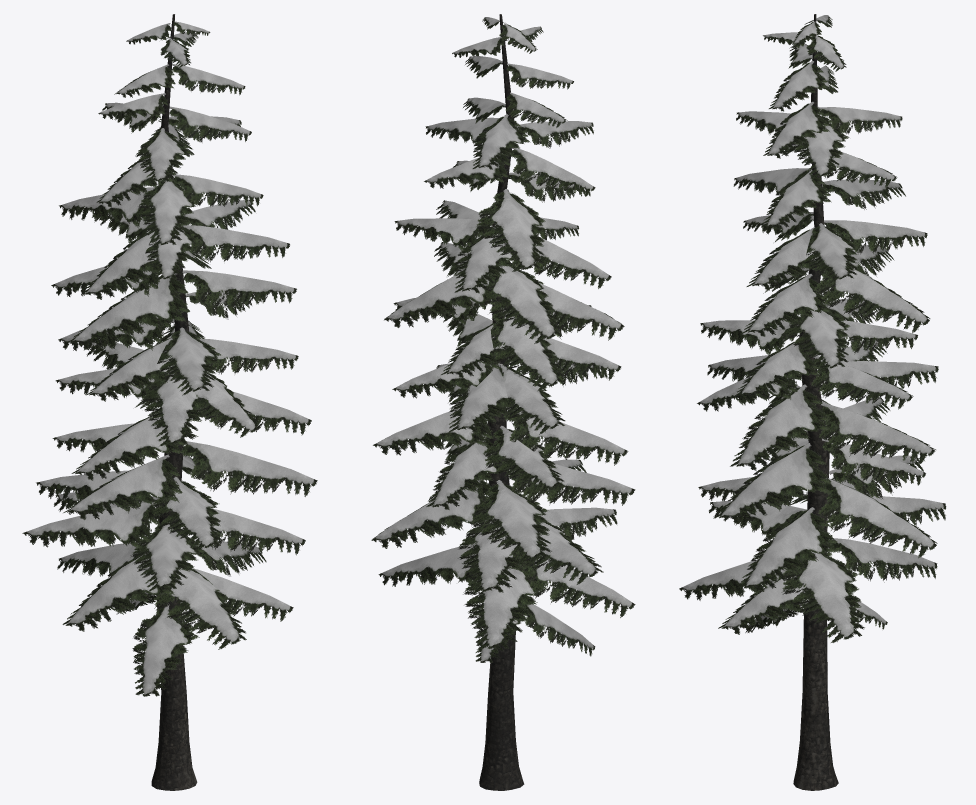
The model's file is tree_4.glb.
3 renders of one model, left to right at view 1: azimuth 30°, elevation 25°; view 2: azimuth 150°, elevation 25°; view 3: azimuth 270°, elevation 25°, orthographic.
Visible parts, largest first — view 1: tree_4_leaves, tree_4; view 2: tree_4_leaves, tree_4; view 3: tree_4_leaves, tree_4.
Part boxes in pixels (x1,y1,x2,y2): tree_4_leaves: (22,14,317,696); tree_4: (151,14,197,790); tree_4_leaves: (371,14,635,662); tree_4: (479,14,524,790); tree_4_leaves: (679,14,946,642); tree_4: (793,14,838,790).
Bounding box in the file's own units: 1.78 × 4.96 × 1.66.
Materials: 2 (2 with a texture image).
